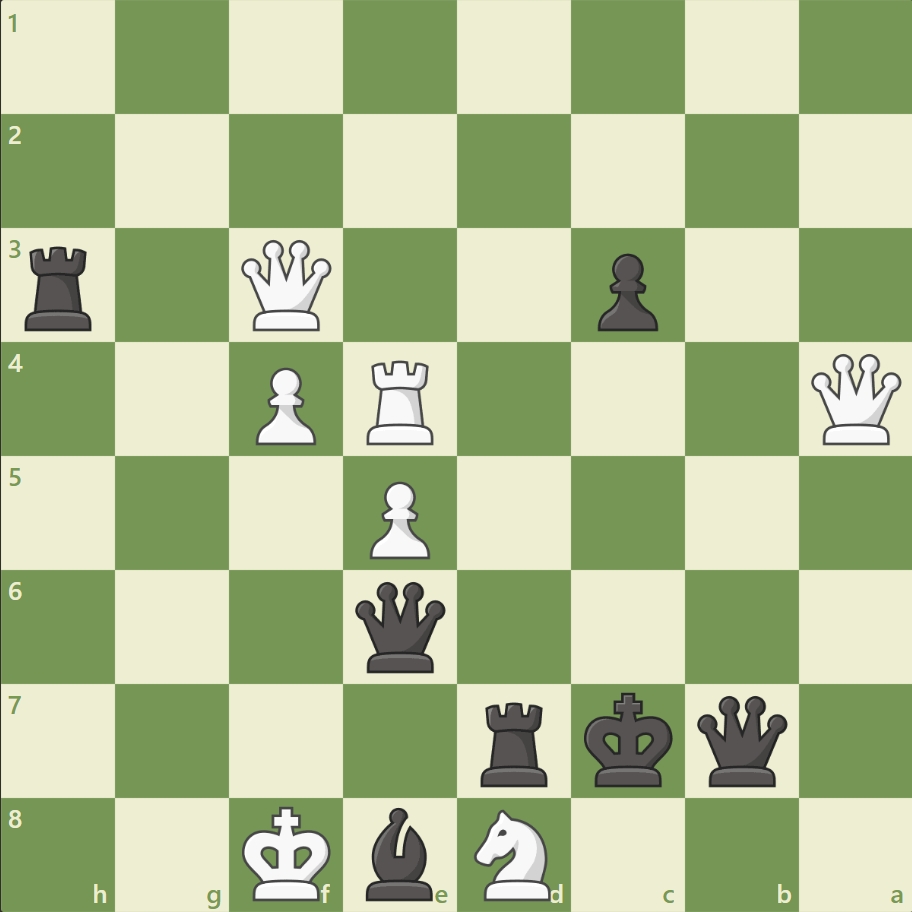K: (238, 798, 338, 906)
N: (465, 802, 562, 904)
P: (247, 359, 322, 450), (361, 473, 435, 564)
Q: (805, 349, 904, 449), (237, 236, 336, 335)
R: (360, 352, 442, 449)
b: (358, 801, 442, 904)
k: (579, 685, 679, 793)
p: (588, 246, 662, 337)
q: (351, 576, 450, 676), (691, 690, 790, 789)
r: (473, 693, 556, 790), (19, 239, 102, 336)
